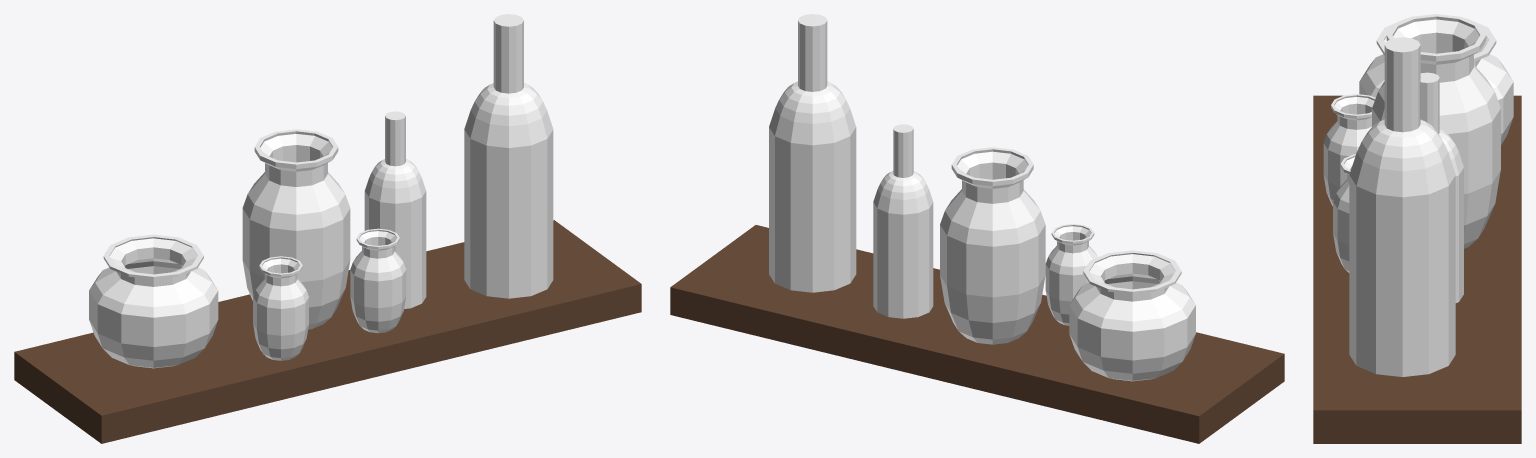
The model's file is Shelf_Small_2.fbx.
3 views of the same model, side by side, from view 1: azimuth 30°, elevation 25°; view 2: azimuth 150°, elevation 25°; view 3: azimuth 270°, elevation 25° (orthographic). The views are drawn at different scales.
Parts seen in each view (by area): view 1: Small_Shelf2.001; view 2: Small_Shelf2.001; view 3: Small_Shelf2.001.
Boxes of the visible parts, x1,y1,x2,y2 form: Small_Shelf2.001: [14, 14, 641, 443]; Small_Shelf2.001: [670, 14, 1284, 443]; Small_Shelf2.001: [1313, 14, 1521, 443].
Size of the model in its own units: 101 by 51.18 by 28.15.
